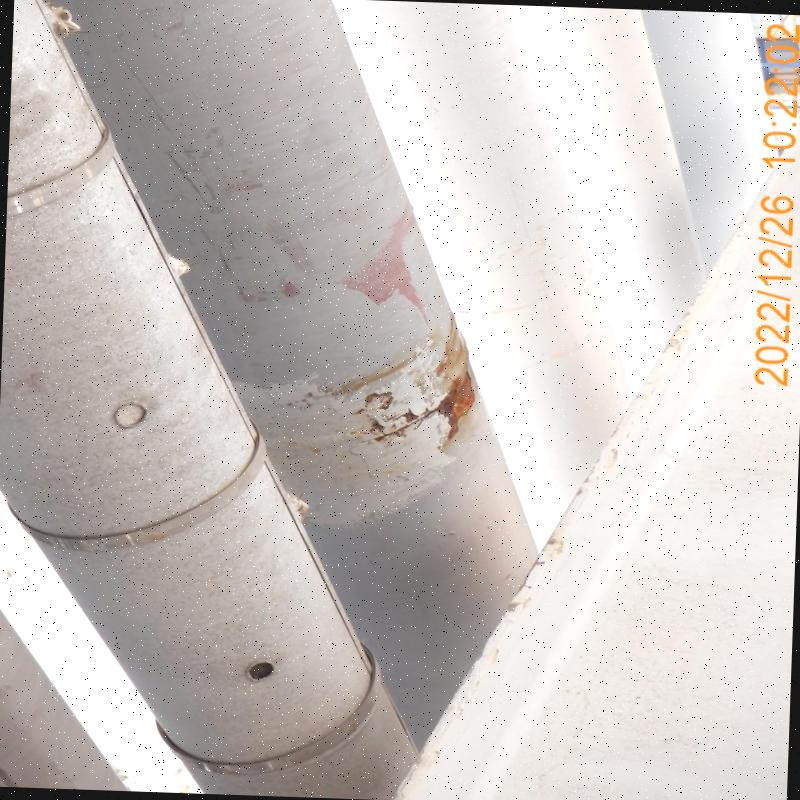corrosion: (428, 340, 484, 423), (226, 650, 286, 686)
